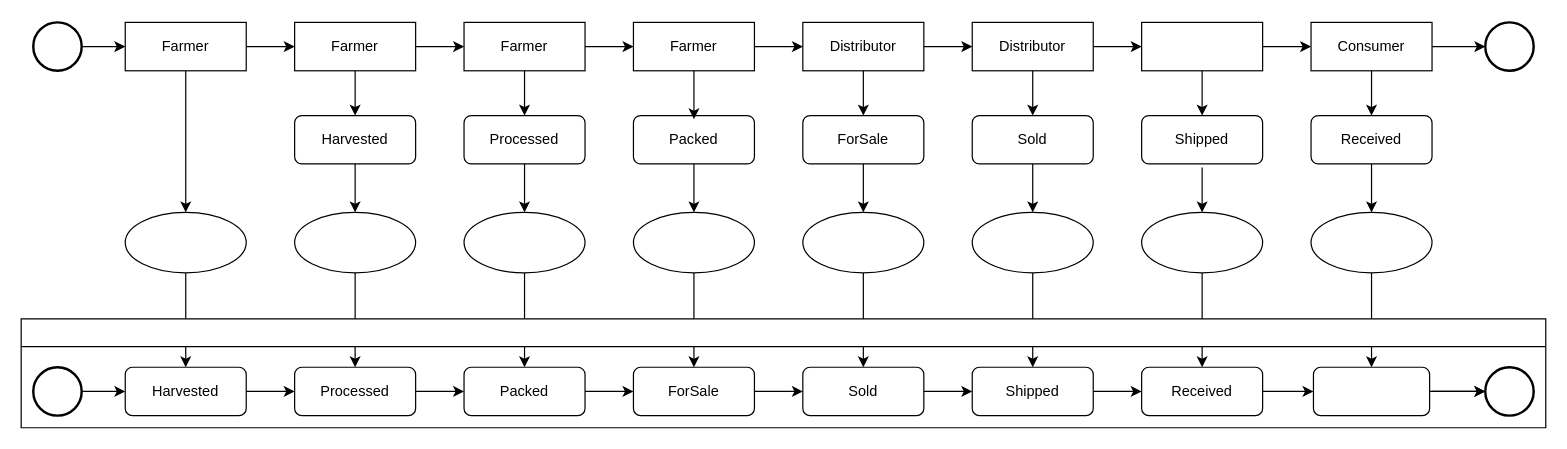
This 1567x449 diagram has some shape labels left out. The box of each missing label's shape, as (x1, y1, x2, y2) in pixels:
buyItem: (802, 211, 924, 273)
harvestItem: (124, 211, 246, 273)
Item State: (20, 318, 1546, 428)
packItem: (463, 211, 585, 273)
processItem: (293, 211, 416, 273)
Purchased: (1312, 366, 1430, 416)
purchaseItem: (1310, 211, 1432, 273)
receiveItem: (1140, 211, 1263, 273)
Retailer: (1140, 21, 1263, 71)
sellItem: (632, 211, 754, 273)
shipItem: (971, 211, 1093, 273)
